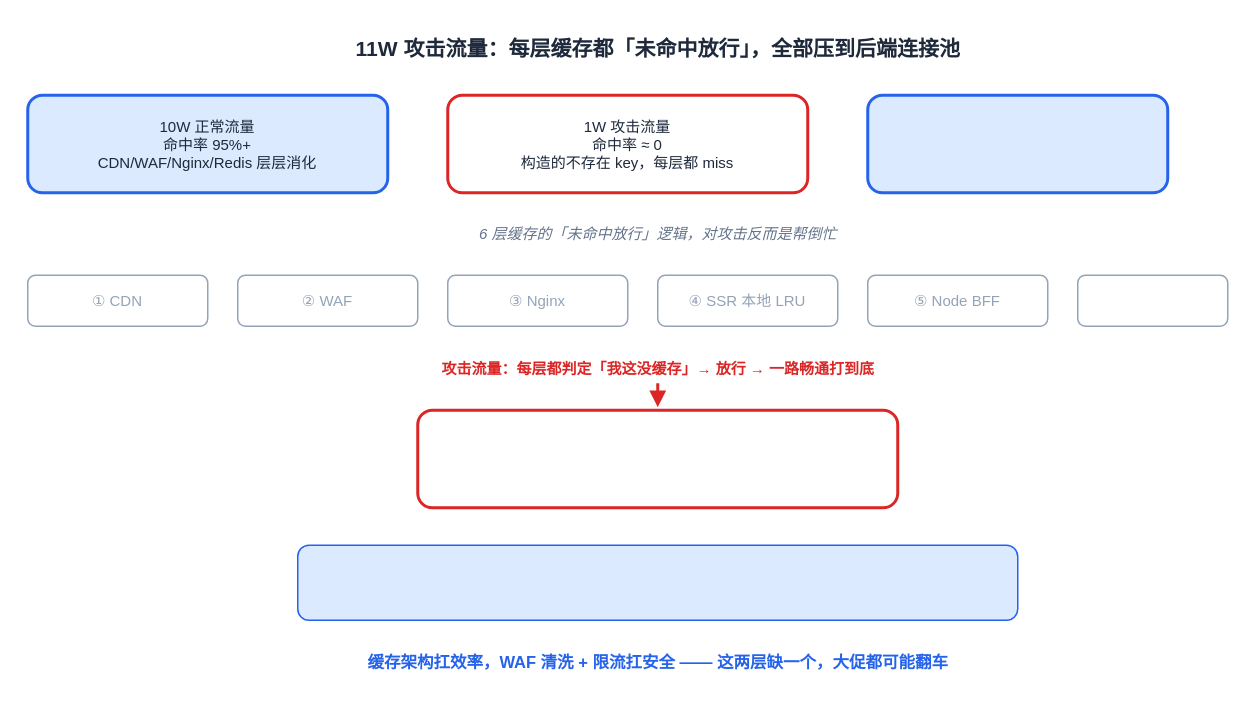
This 1254x720 diagram has some shape labels left out. The centre of each missing label's shape, as x and y in pixels:
"11W 总流量 10W 被缓存消化 1W 全部回源" belongs at pixel 1017 143.
"⑥ Redis" belongs at pixel 1152 300.
"后端连接池打满（100%） Socket 耗尽，P99 80ms → 800ms 服务响应缓慢" belongs at pixel 657 458.
"恢复：WAF 清洗（IP 频次 / UA / 请求模式）+ 限流 → 等 Socket 释放 （若有熔断，OPEN 快速失败会比等释放更快恢复）" belongs at pixel 657 582.
